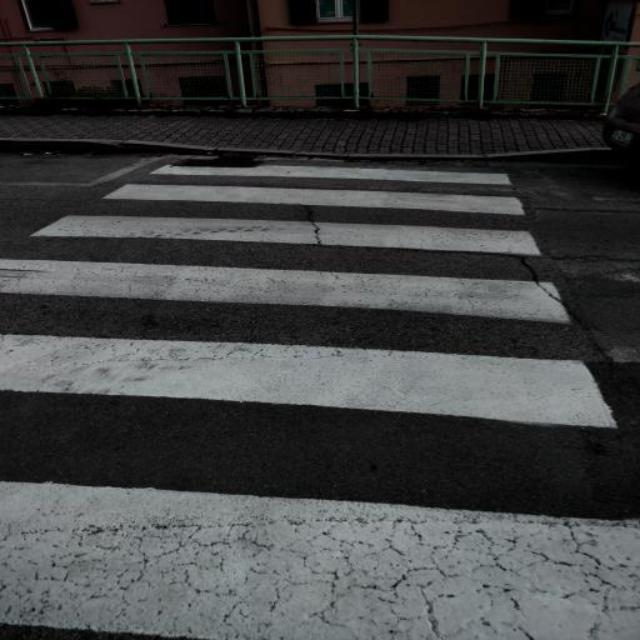sidewalk: (1, 155, 617, 429)
